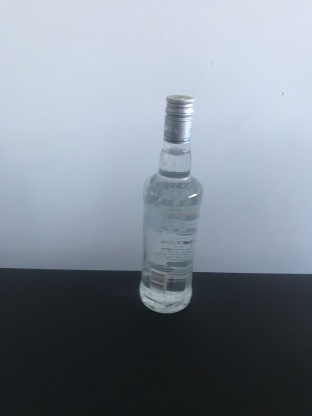nakretka: (162, 91, 196, 145)
